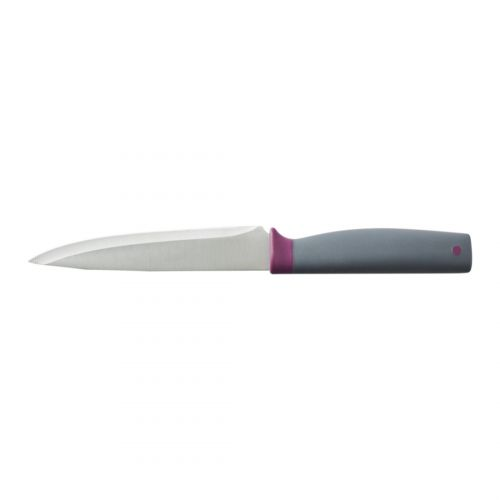knife: (28, 226, 471, 274)
